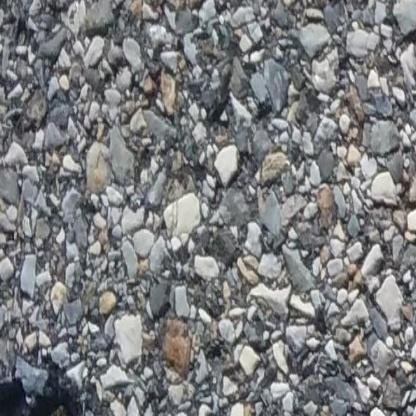Cracks: (0, 372, 122, 416)
